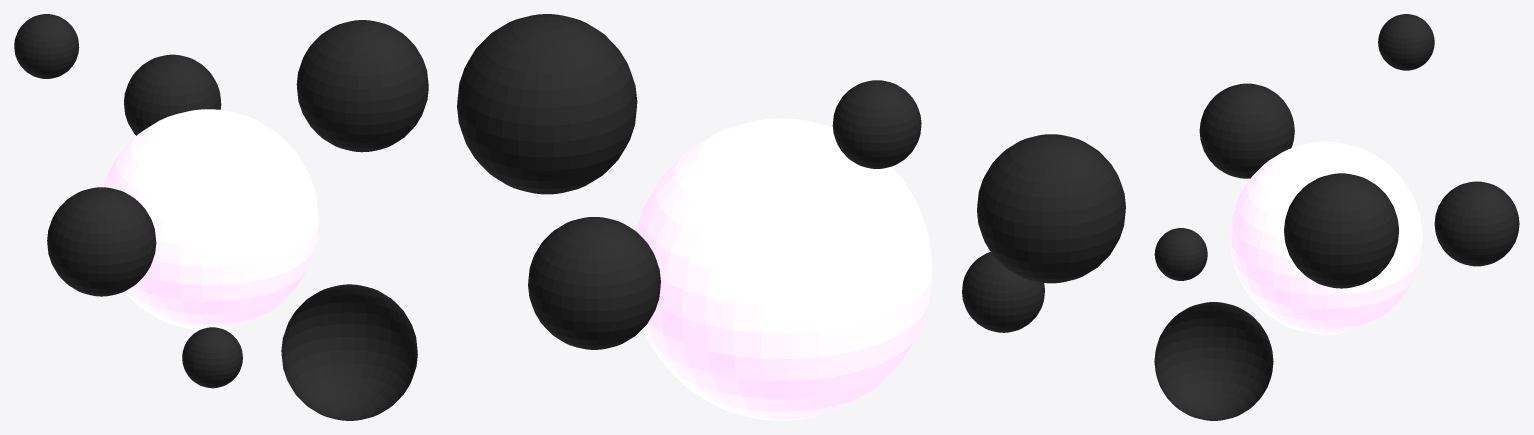
The model's file is Spheres.gltf.
3 views of the same model, side by side, from view 1: azimuth 30°, elevation 25°; view 2: azimuth 150°, elevation 25°; view 3: azimuth 270°, elevation 25° (orthographic). The views are drawn at different scales.
Parts seen in each view (by area): view 1: Spheres; view 2: Spheres; view 3: Spheres.
Part boxes in pixels (left/top/right/bottom): Spheres: left=14, top=14, right=428, bottom=420; Spheres: left=457, top=14, right=1125, bottom=420; Spheres: left=1154, top=14, right=1519, bottom=420.
Size of the model in its own units: 14.32 by 11.85 by 12.38.
